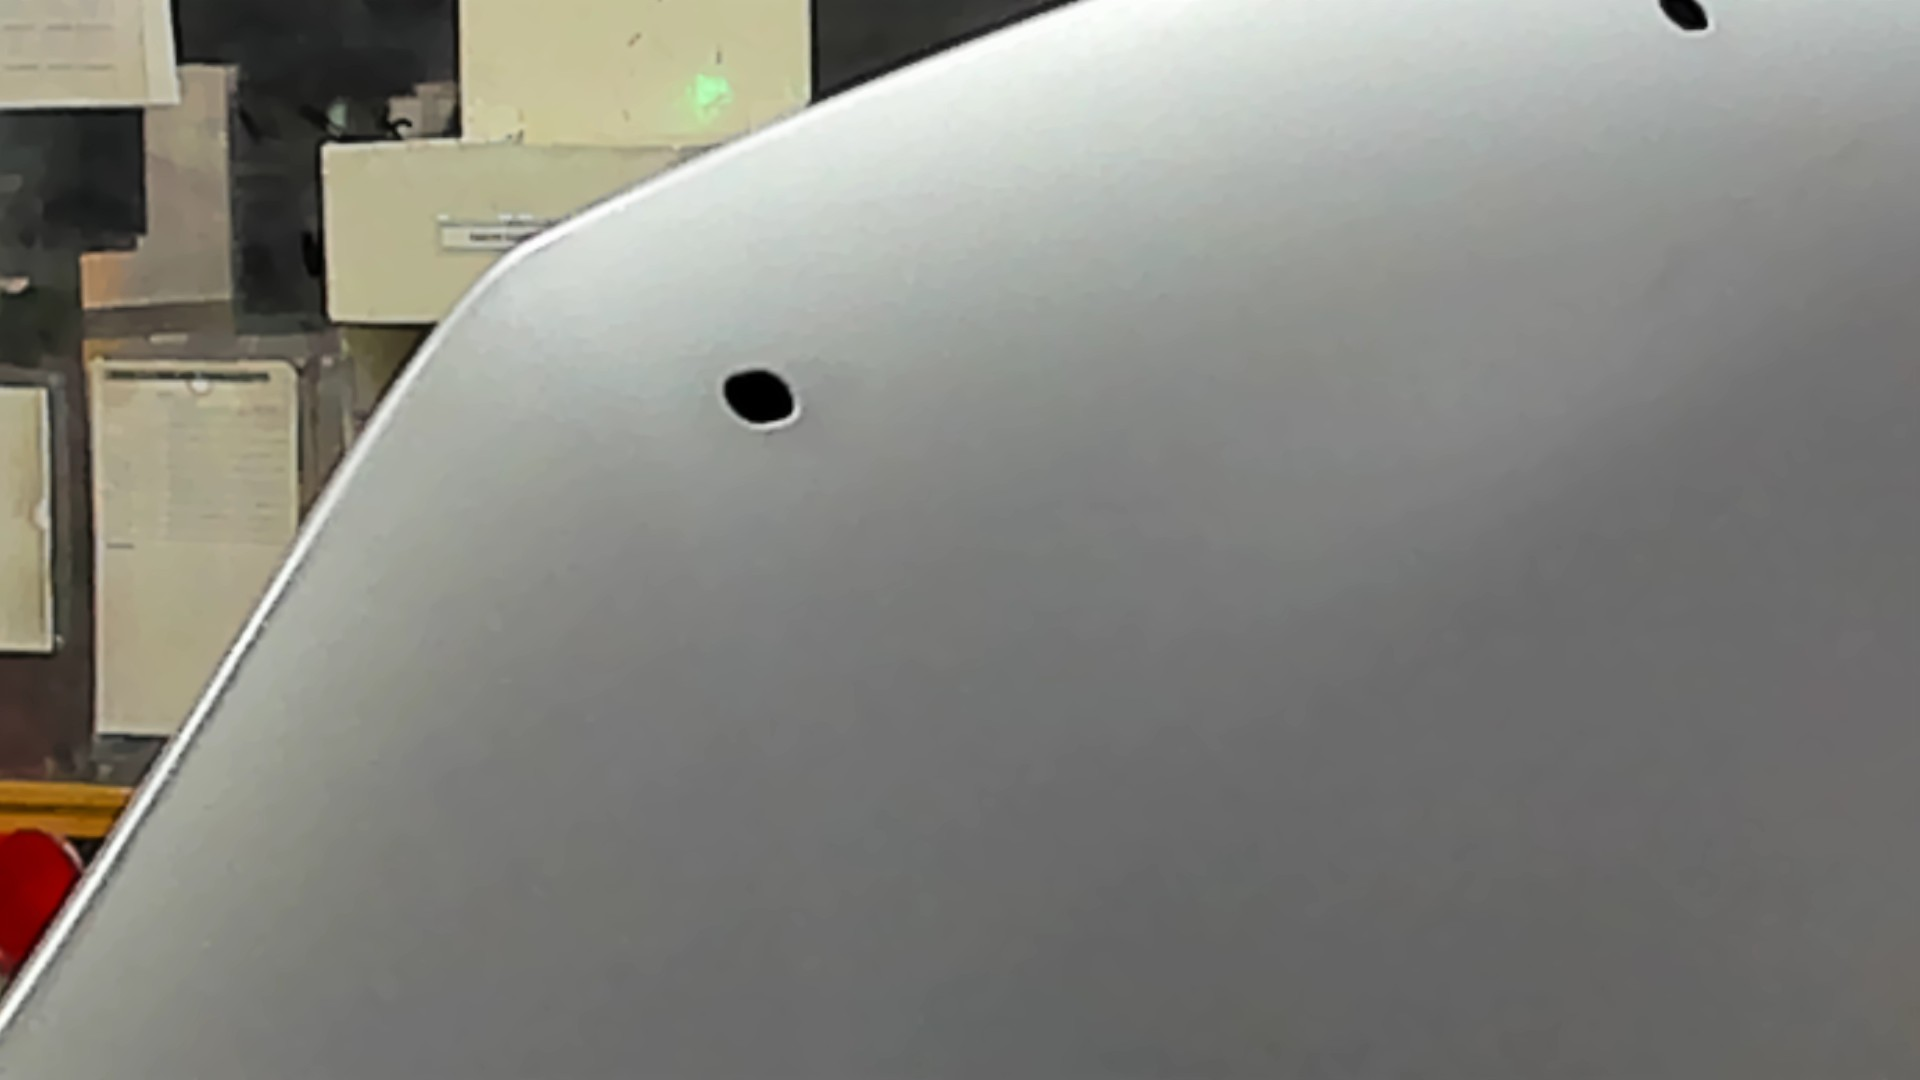chico: (705, 368, 814, 436), (1648, 1, 1731, 55)
